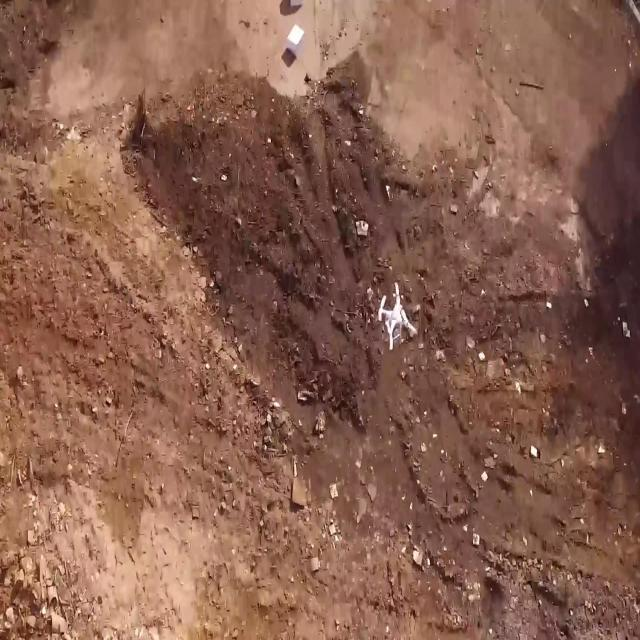drone: (374, 275, 419, 350)
